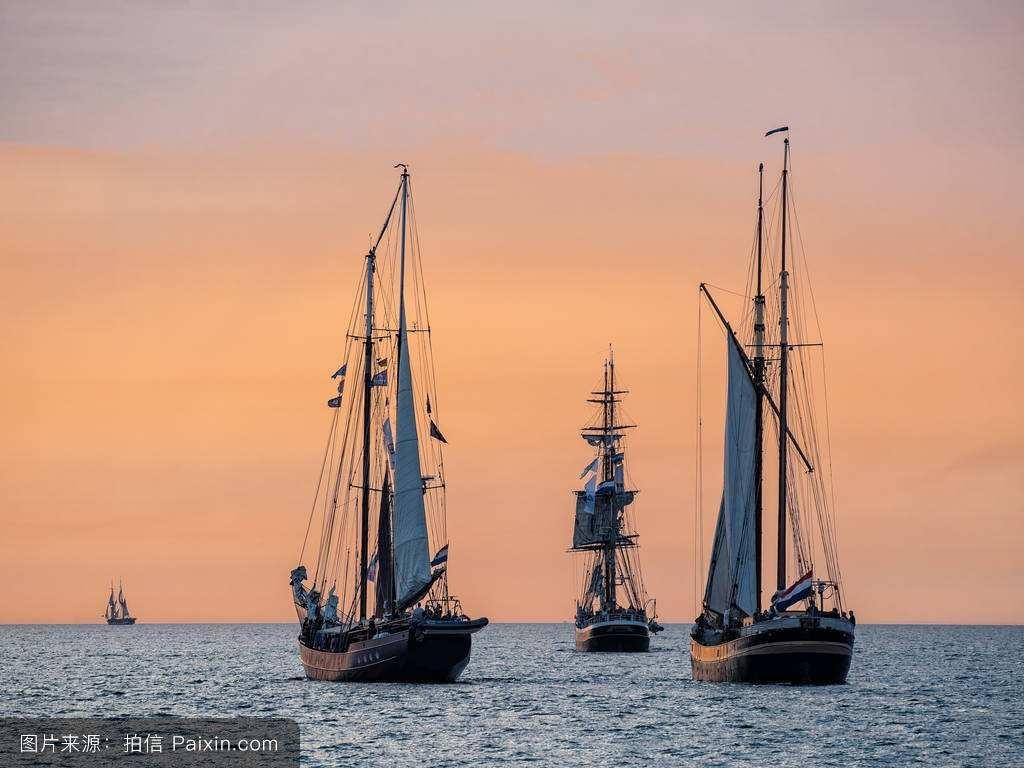fanchuan: (687, 124, 890, 686), (280, 167, 490, 685), (559, 346, 674, 652), (99, 585, 147, 629)
